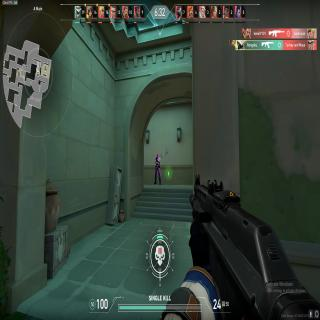ENEMY-BODY: (154, 152, 162, 186)
ENEMY-HEAD: (156, 152, 158, 158)
